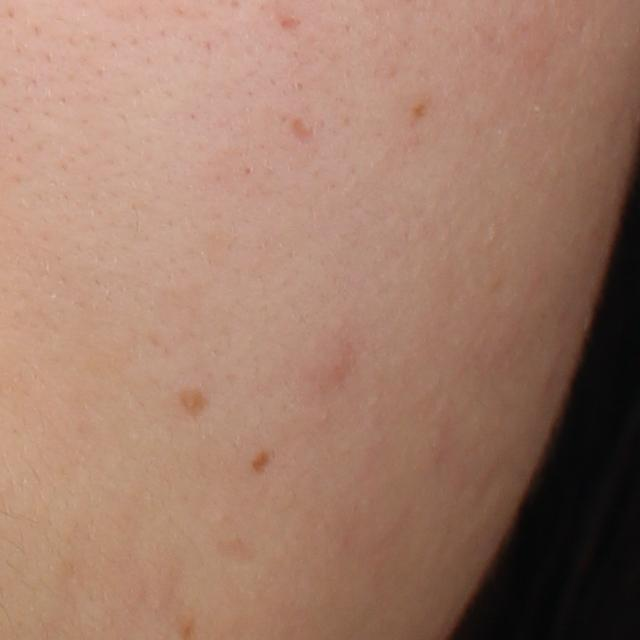atrophic_scar: (284, 115, 320, 149), (281, 16, 304, 32)
nevus: (176, 384, 214, 424), (250, 448, 276, 476)
